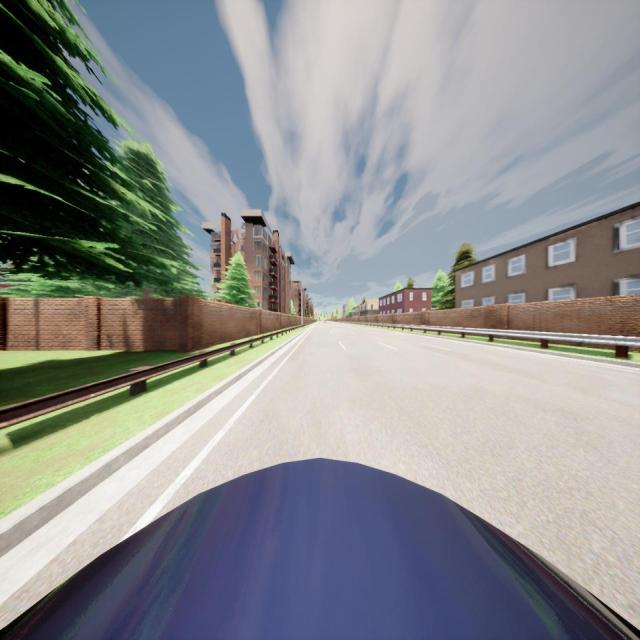Vehicle: (2, 458, 636, 638)
